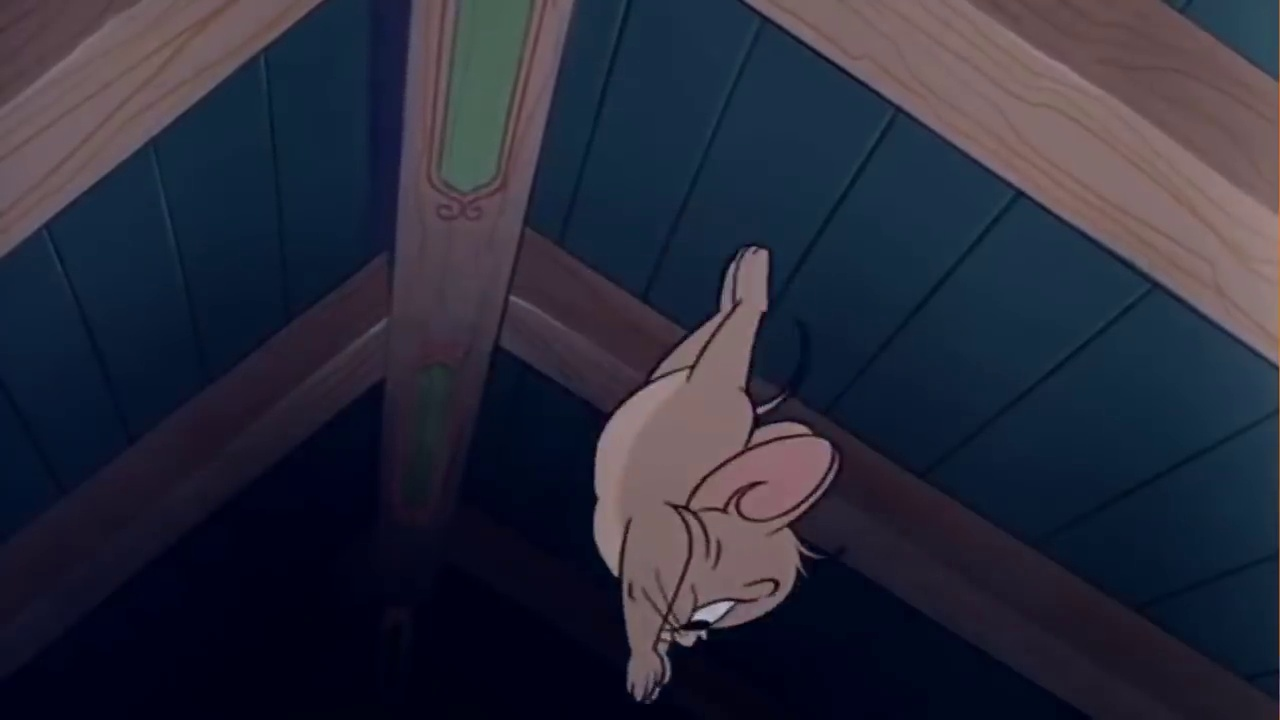face: (669, 514, 786, 652)
